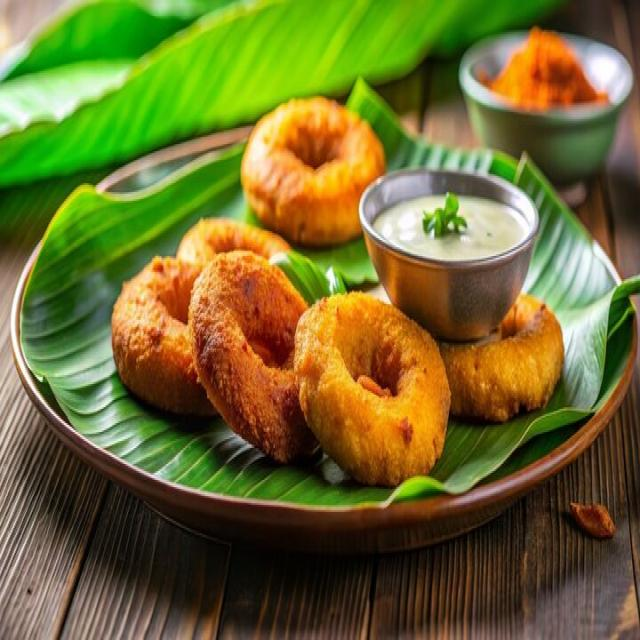MEDU VADA: (111, 215, 290, 411), (291, 290, 452, 484), (191, 248, 324, 464), (240, 95, 386, 237), (442, 294, 565, 419)
